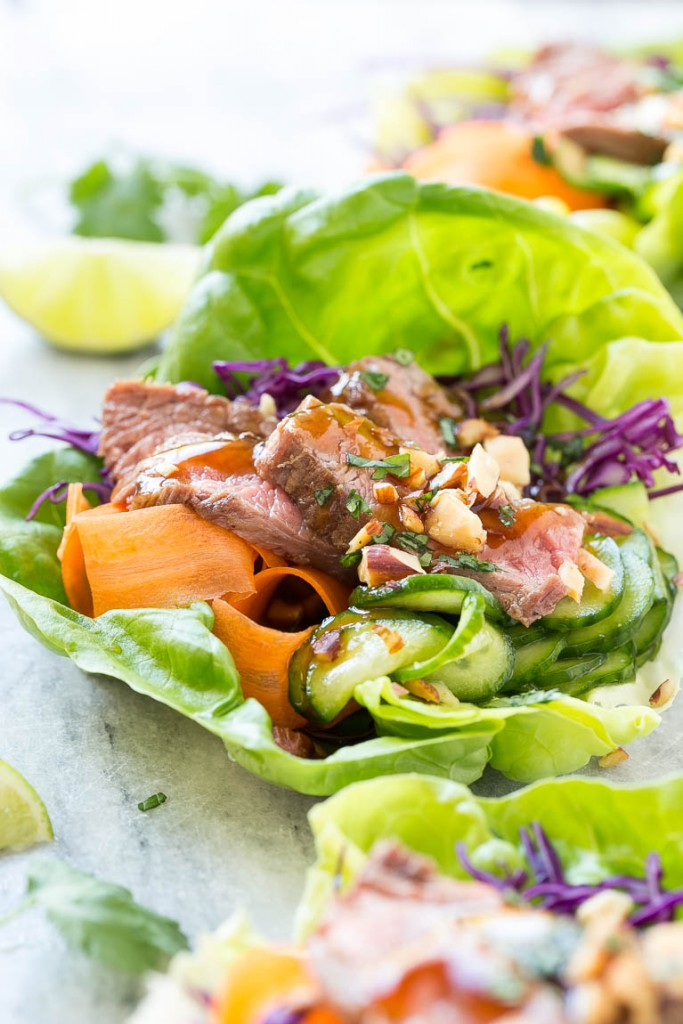chopped lettuce: (55, 637, 683, 852), (209, 179, 676, 406)
